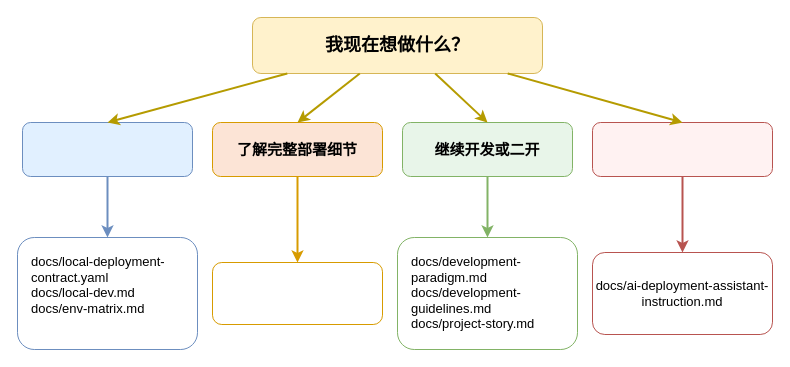
The diagram is 790 pixels wide and 367 high, and some of its shapes have lost their labels. Each missing label, with the centre of its shape:
"docs/deployment-guide.md" belongs at point 297,293.
"先把环境跑起来" belongs at point 107,149.
"让 AI 代理帮我部署" belongs at point 682,149.
